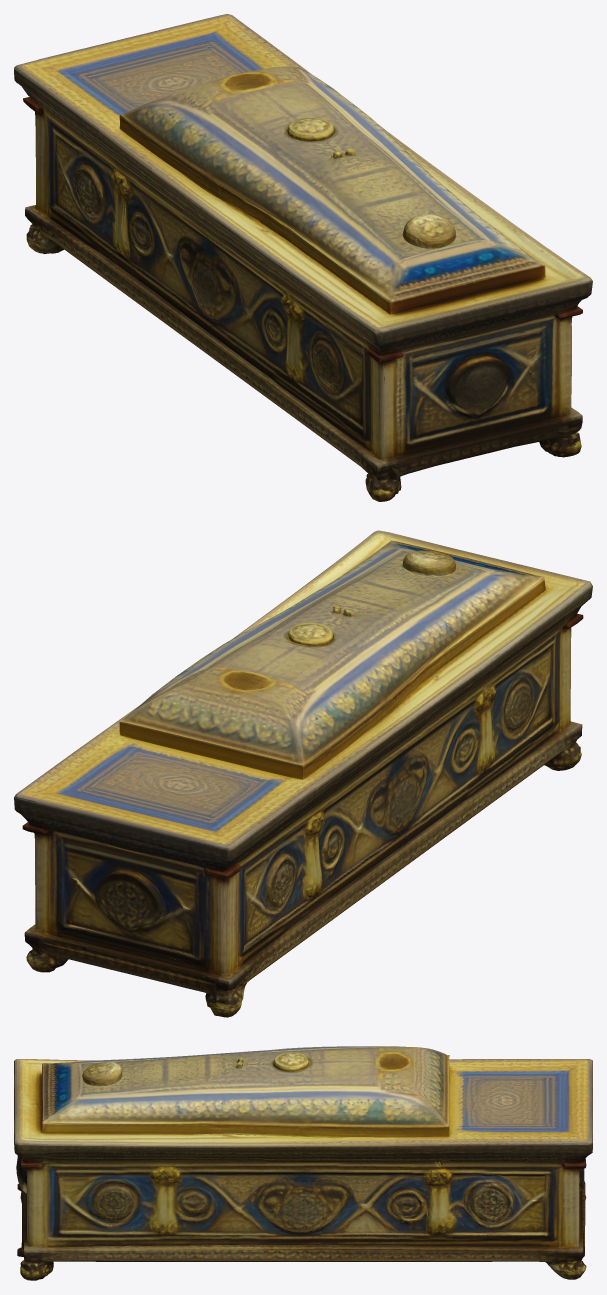
File: edit.glb
The picture shows the model from 3 angles, top to bottom: view 1: azimuth 30°, elevation 25°; view 2: azimuth 150°, elevation 25°; view 3: azimuth 270°, elevation 25°; orthographic projection. The views are drawn at different scales.
Parts seen in each view (by area): view 1: world; view 2: world; view 3: world.
Boxes of the visible parts, x1,y1,x2,y2 form: world: (14,14,592,501); world: (14,530,592,1017); world: (14,1046,592,1280).
Size of the model in its own units: 0.3457 by 0.3575 by 1.
1 material, 1 textured.
